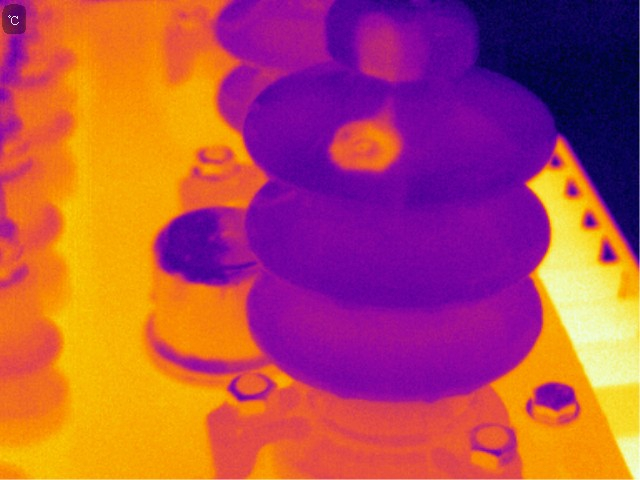Oil: (327, 106, 411, 176), (353, 13, 416, 90)
